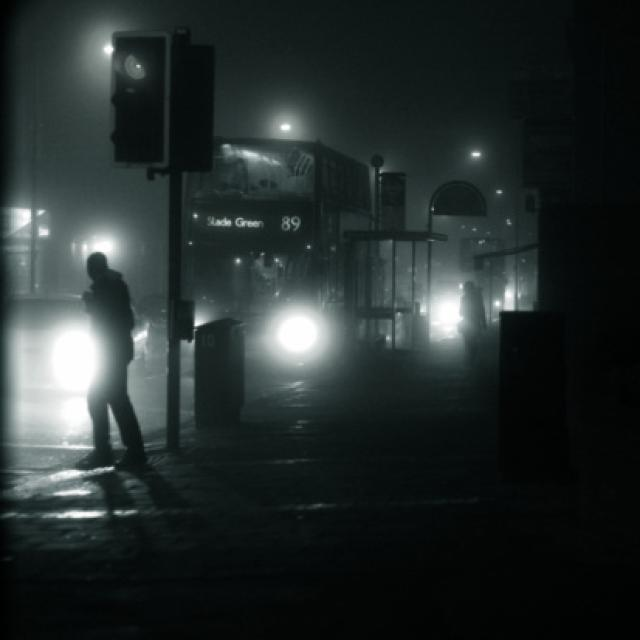Bus: (169, 113, 387, 401)
People: (62, 231, 156, 472), (452, 264, 500, 392)
